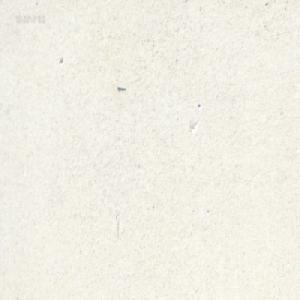Nail: (116, 84, 126, 89)
